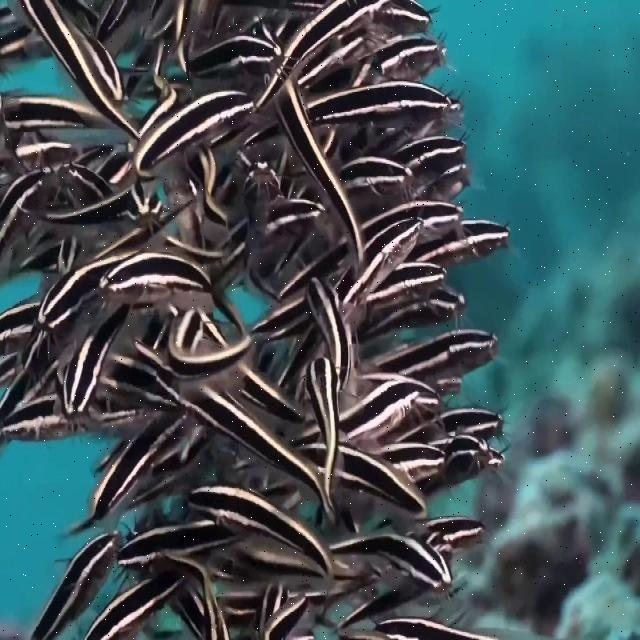fish: (175, 379, 334, 523), (274, 72, 364, 275), (190, 481, 337, 605), (17, 0, 143, 139), (248, 1, 385, 109), (89, 410, 195, 526), (130, 90, 258, 181), (30, 529, 121, 639), (207, 197, 322, 278), (335, 217, 424, 321), (37, 251, 137, 332), (62, 302, 133, 414), (329, 533, 454, 594), (82, 570, 192, 639), (307, 78, 462, 126), (120, 516, 253, 570), (372, 327, 498, 384), (333, 443, 427, 514), (164, 308, 252, 379), (28, 180, 154, 227), (305, 355, 342, 510), (99, 354, 192, 414), (305, 275, 354, 388), (0, 333, 57, 423), (95, 252, 214, 294), (0, 164, 54, 252), (406, 221, 510, 266), (343, 380, 423, 438), (0, 395, 88, 446), (1, 93, 119, 131), (363, 202, 463, 245), (184, 143, 229, 237), (241, 361, 307, 423), (395, 408, 506, 443), (190, 35, 276, 79), (367, 261, 448, 303), (365, 35, 442, 74), (374, 616, 494, 639), (338, 155, 414, 191), (392, 135, 466, 170), (250, 296, 308, 337), (380, 443, 446, 477), (0, 299, 43, 344), (424, 514, 485, 545)
